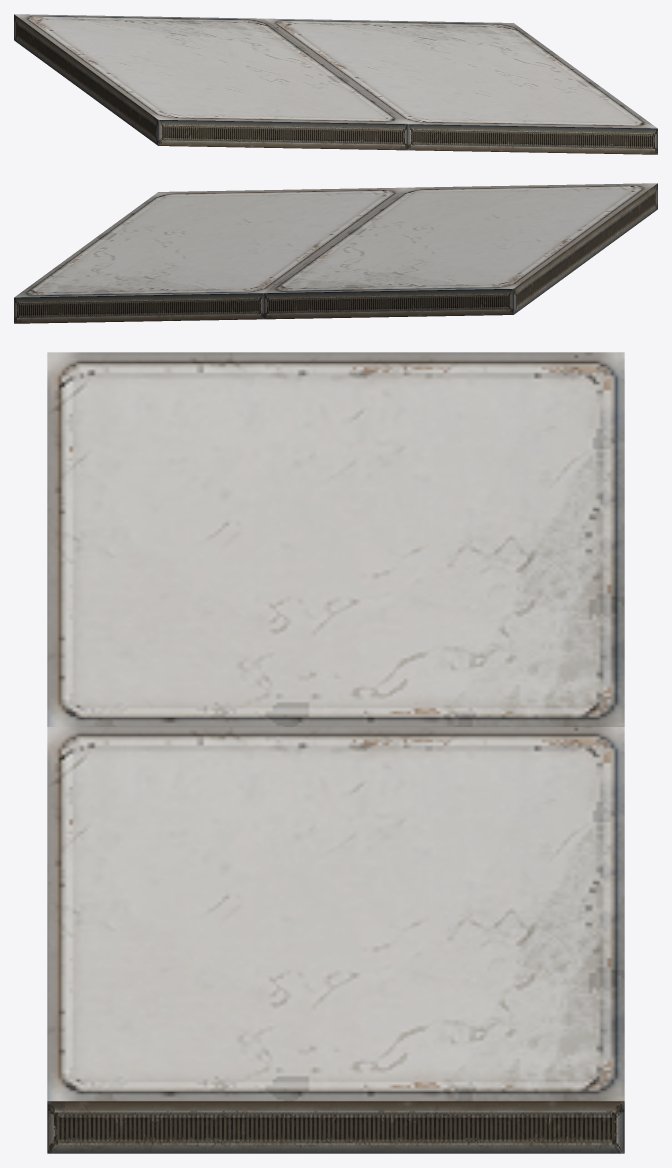
Rendered from scifi_ramp2_1.FBX.
3 views of the same model, one above another, from view 1: azimuth 30°, elevation 25°; view 2: azimuth 150°, elevation 25°; view 3: azimuth 270°, elevation 25° (orthographic). The views are drawn at different scales.
Parts seen in each view (by area): view 1: Plane095; view 2: Plane095; view 3: Plane095.
Boxes of the visible parts, x1,y1,x2,y2 form: Plane095: [14, 14, 657, 154]; Plane095: [14, 183, 657, 323]; Plane095: [47, 352, 624, 1153].
Bounding box in the file's own units: 508 × 152 × 254.
